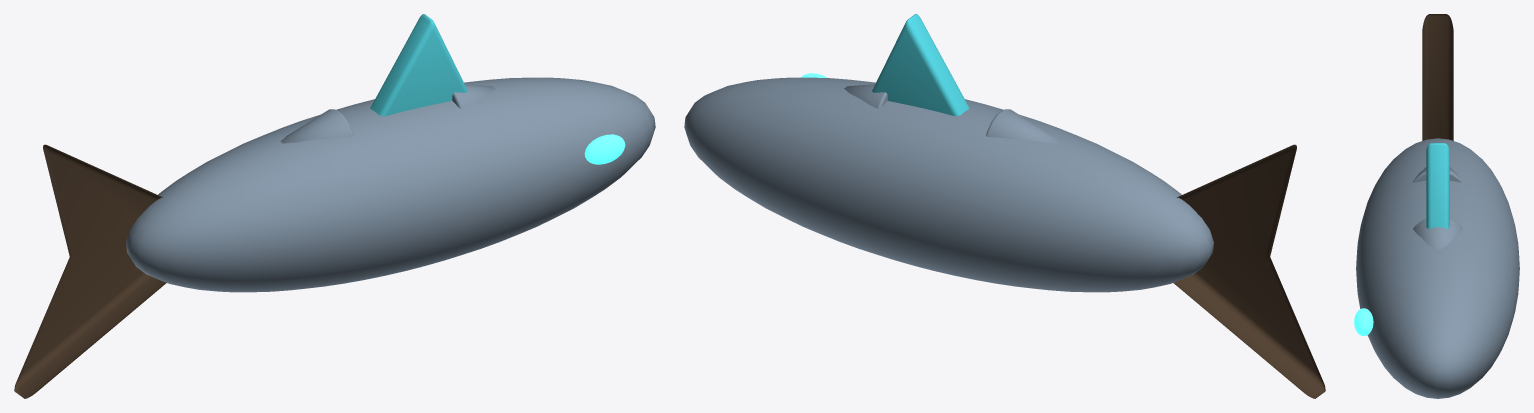
The model's file is aquatic_v5.glb.
3 renders of one model, left to right at view 1: azimuth 30°, elevation 25°; view 2: azimuth 150°, elevation 25°; view 3: azimuth 270°, elevation 25°, orthographic. The views are drawn at different scales.
Parts seen in each view (by area): view 1: SHARK_BODY_PRIMARY, SHARK_TAIL_SECONDARY, SHARK_DORSAL_ACCENT, SHOULDER_TUSK_PRIMARY, EYE_EMISSIVE, SHOULDER_TUSK_PRIMARY.001; view 2: SHARK_BODY_PRIMARY, SHARK_TAIL_SECONDARY, SHARK_DORSAL_ACCENT, SHOULDER_TUSK_PRIMARY, SHOULDER_TUSK_PRIMARY.001; view 3: SHARK_BODY_PRIMARY, SHARK_TAIL_SECONDARY, SHARK_DORSAL_ACCENT, SHOULDER_TUSK_PRIMARY.001, EYE_EMISSIVE, SHOULDER_TUSK_PRIMARY.
Part boxes in pixels (<box>): SHARK_BODY_PRIMARY: <box>126,77,655,292</box>; SHARK_TAIL_SECONDARY: <box>14,144,166,398</box>; SHARK_DORSAL_ACCENT: <box>370,14,467,116</box>; SHOULDER_TUSK_PRIMARY: <box>280,109,353,143</box>; EYE_EMISSIVE: <box>584,134,625,164</box>; SHOULDER_TUSK_PRIMARY.001: <box>452,84,495,108</box>; SHARK_BODY_PRIMARY: <box>684,77,1213,292</box>; SHARK_TAIL_SECONDARY: <box>1173,144,1325,398</box>; SHARK_DORSAL_ACCENT: <box>872,14,969,116</box>; SHOULDER_TUSK_PRIMARY: <box>986,109,1059,143</box>; SHOULDER_TUSK_PRIMARY.001: <box>844,84,887,108</box>; SHARK_BODY_PRIMARY: <box>1356,138,1519,398</box>; SHARK_TAIL_SECONDARY: <box>1422,14,1453,140</box>; SHARK_DORSAL_ACCENT: <box>1426,143,1449,228</box>; SHOULDER_TUSK_PRIMARY.001: <box>1413,219,1462,249</box>; EYE_EMISSIVE: <box>1354,308,1373,335</box>; SHOULDER_TUSK_PRIMARY: <box>1412,167,1463,182</box>.
Bounding box in the file's own units: 3.72 × 1.57 × 0.952.
